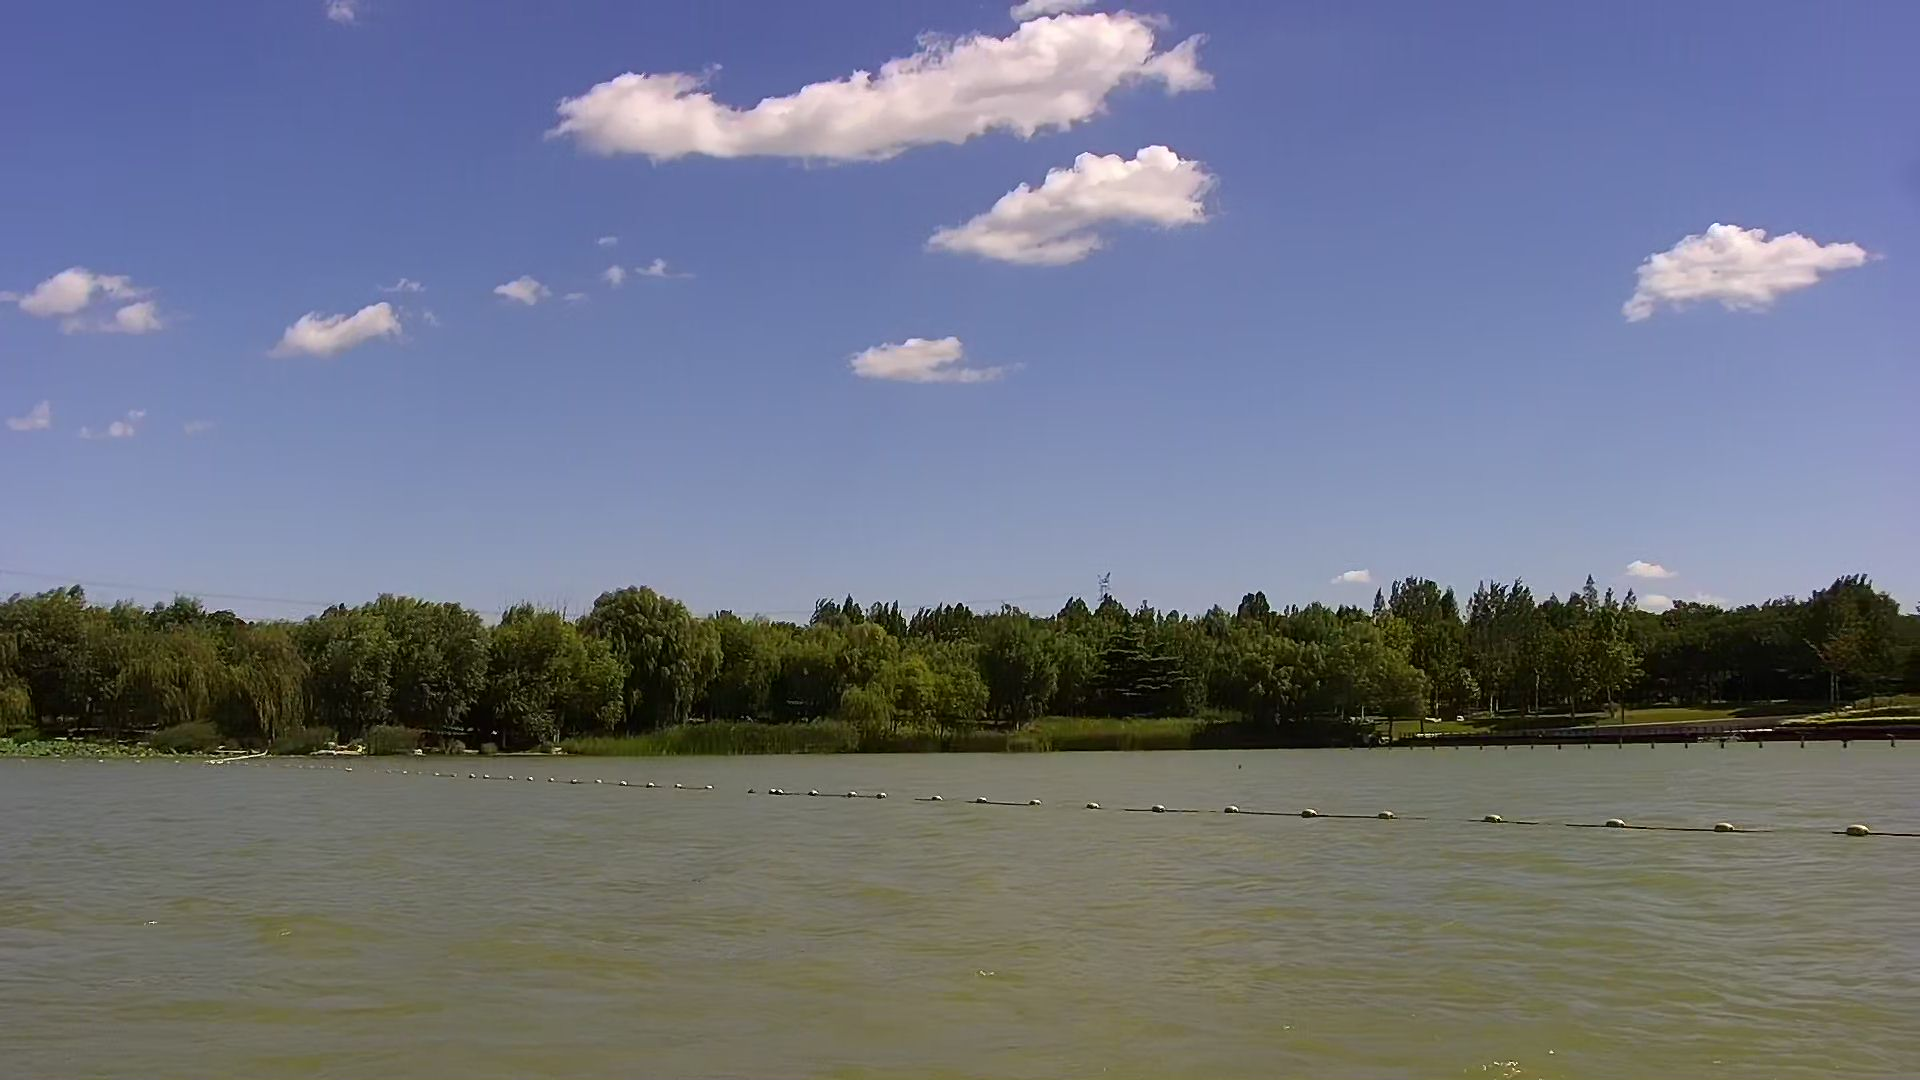ball: (1291, 778, 1341, 829), (1462, 793, 1519, 836), (1833, 804, 1884, 851), (1709, 808, 1747, 855), (1375, 790, 1407, 837), (1596, 804, 1636, 837), (1149, 793, 1175, 824), (1213, 794, 1247, 818)
